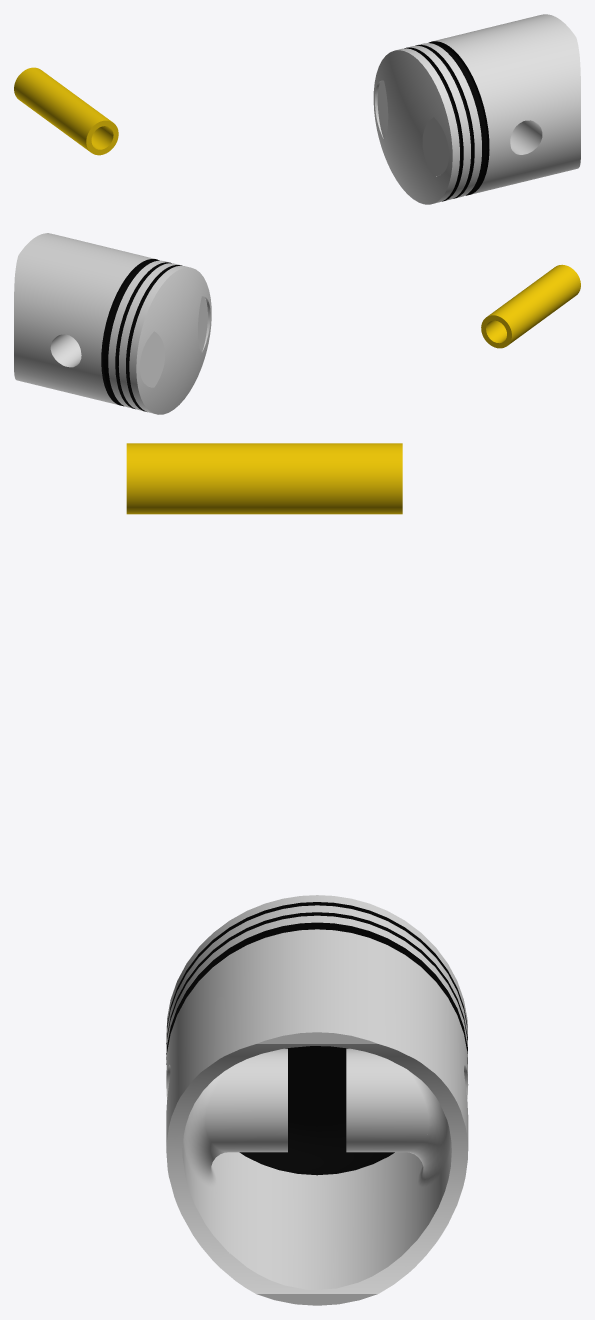
File: 2CylinderEngine.gltf
3 renders of one model, top to bottom at view 1: azimuth 30°, elevation 25°; view 2: azimuth 150°, elevation 25°; view 3: azimuth 270°, elevation 25°, orthographic. The views are drawn at different scales.
Visible parts, largest first — view 1: Piston_123-844_0_Parts_1, body_24; view 2: Piston_123-844_0_Parts_1, body_24; view 3: Piston_123-844_0_Parts_1, body_24.
Part boxes in pixels (x1,y1,x2,y2): Piston_123-844_0_Parts_1: (373, 14, 580, 204); body_24: (14, 67, 118, 155); Piston_123-844_0_Parts_1: (14, 233, 211, 414); body_24: (481, 264, 580, 348); Piston_123-844_0_Parts_1: (166, 895, 468, 1305); body_24: (126, 443, 402, 514).
Bounding box in the file's own units: 3557 × 1315 × 1052.
